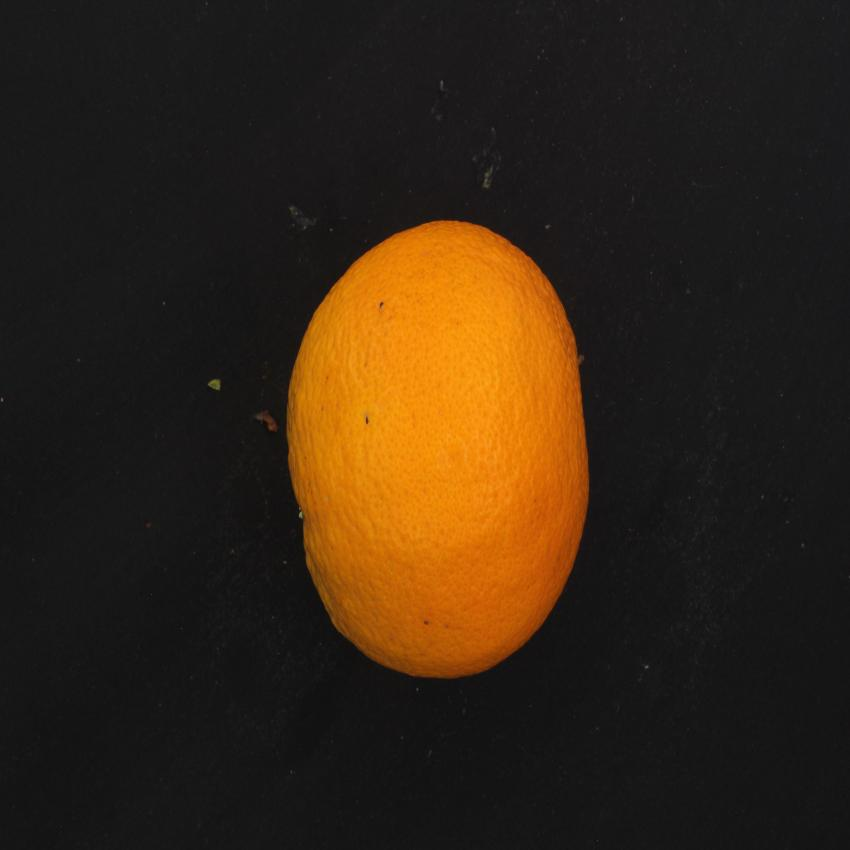Buen estado: (252, 206, 608, 698)
